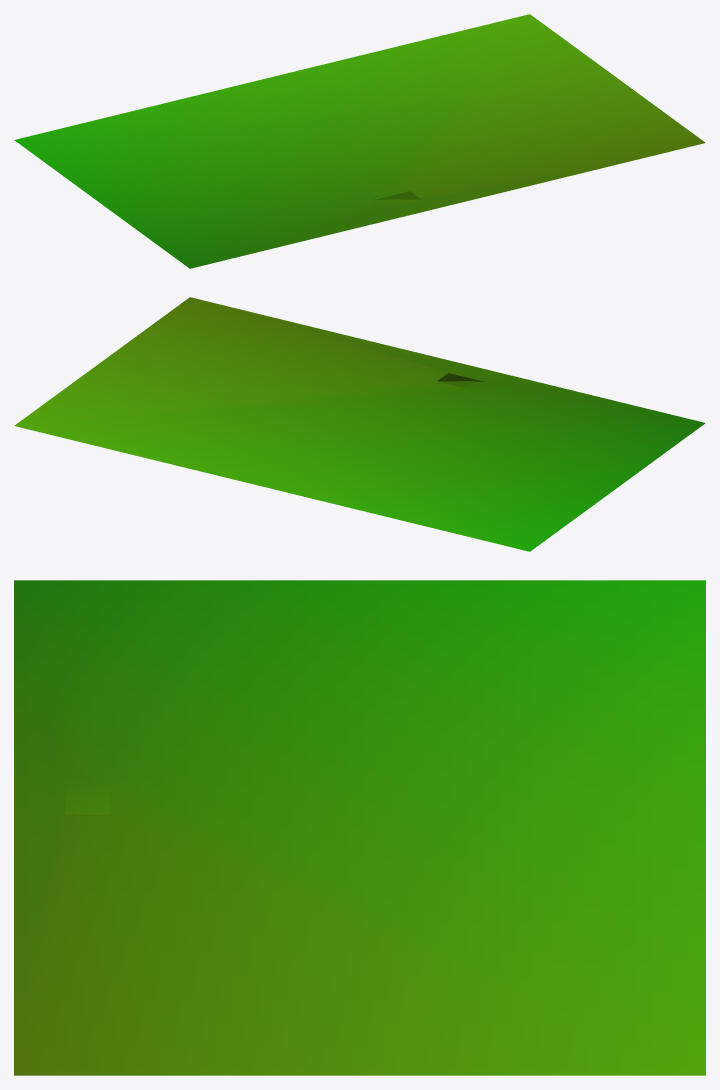
Rendered from DiMian1_Mo.fbx.
3 renders of one model, top to bottom at view 1: azimuth 30°, elevation 25°; view 2: azimuth 150°, elevation 25°; view 3: azimuth 270°, elevation 25°, orthographic. The views are drawn at different scales.
Parts seen in each view (by area): view 1: DiMian; view 2: DiMian; view 3: DiMian.
Boxes of the visible parts, left/top/right/bottom form: DiMian: left=14, top=14, right=705, bottom=268; DiMian: left=14, top=297, right=705, bottom=551; DiMian: left=14, top=580, right=705, bottom=1075.
Bounding box in the file's own units: 25795 × 597 × 15238.
